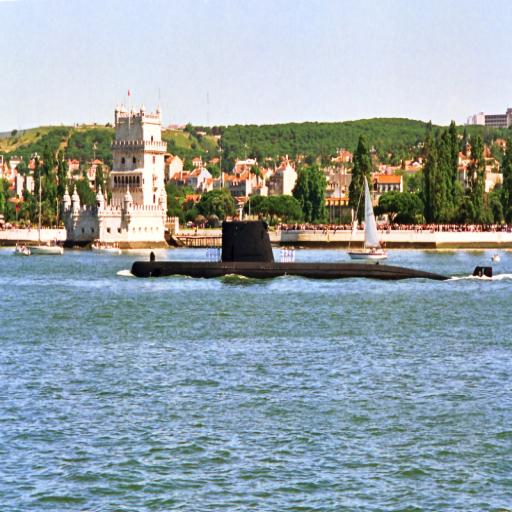submarine: (130, 218, 495, 280)
